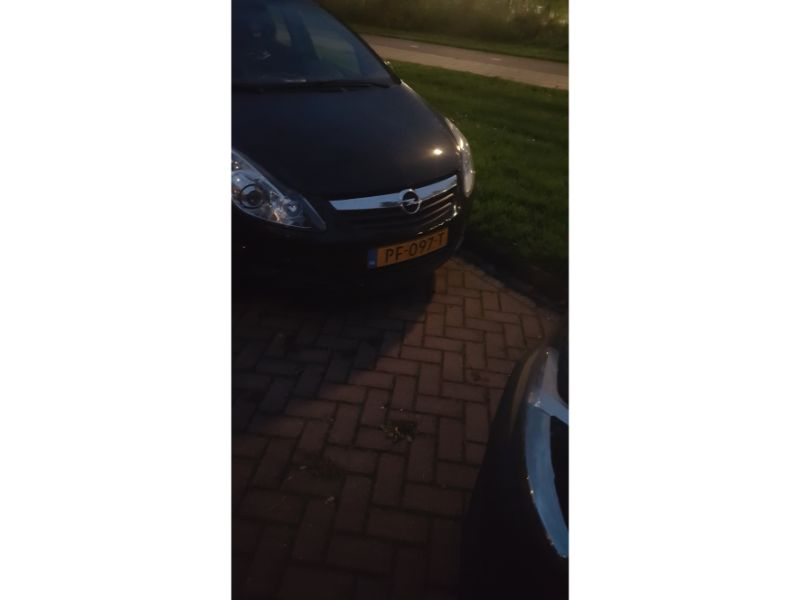kenteken: (365, 226, 452, 268)
